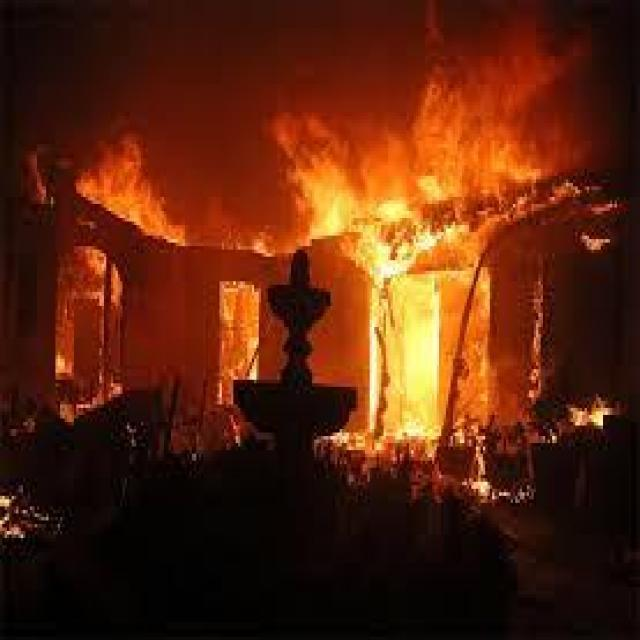Fire: (370, 82, 528, 458), (53, 245, 146, 399), (266, 92, 371, 220), (76, 141, 188, 255), (188, 261, 276, 384)
